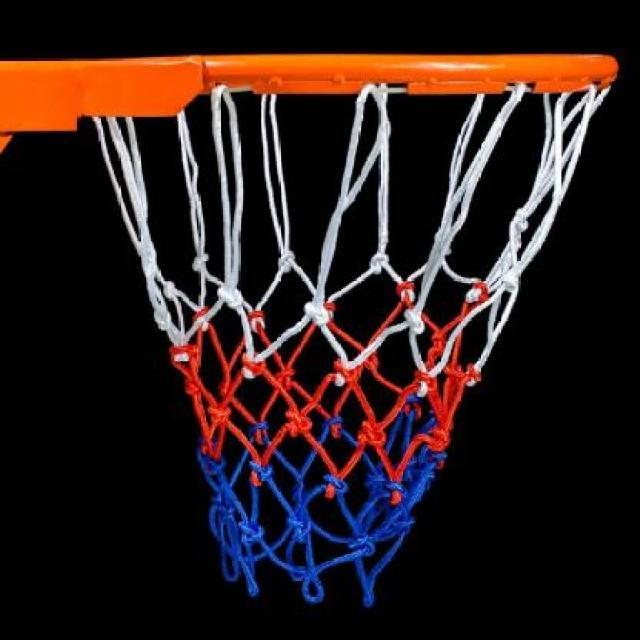rim: (88, 54, 626, 602)
